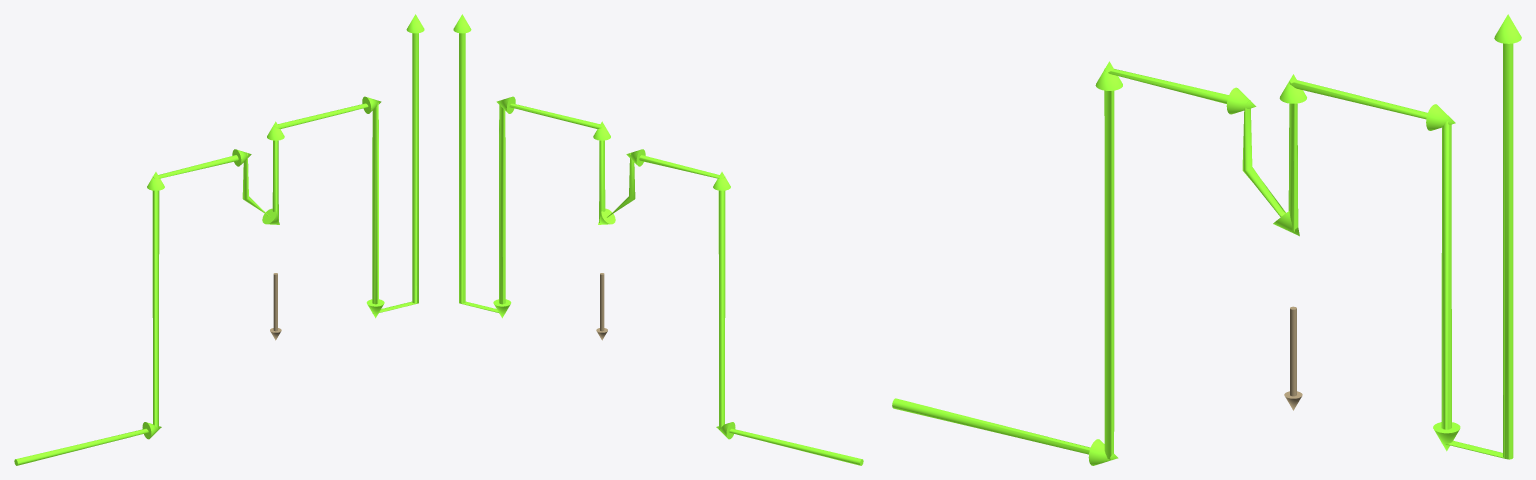
The model's file is flash_dryer_flow.glb.
3 views of the same model, side by side, from view 1: azimuth 30°, elevation 25°; view 2: azimuth 150°, elevation 25°; view 3: azimuth 330°, elevation 25° (orthographic). The views are drawn at different scales.
Visible parts, largest first — view 1: hot_gas; view 2: hot_gas; view 3: hot_gas, product.
Part boxes in pixels (x1,y1,x2,y2): hot_gas: (14, 14, 424, 465); hot_gas: (453, 14, 863, 465); hot_gas: (892, 14, 1521, 465); product: (1284, 306, 1302, 410).
Bounding box in the file's own units: 4.08 × 3.44 × 0.156.
